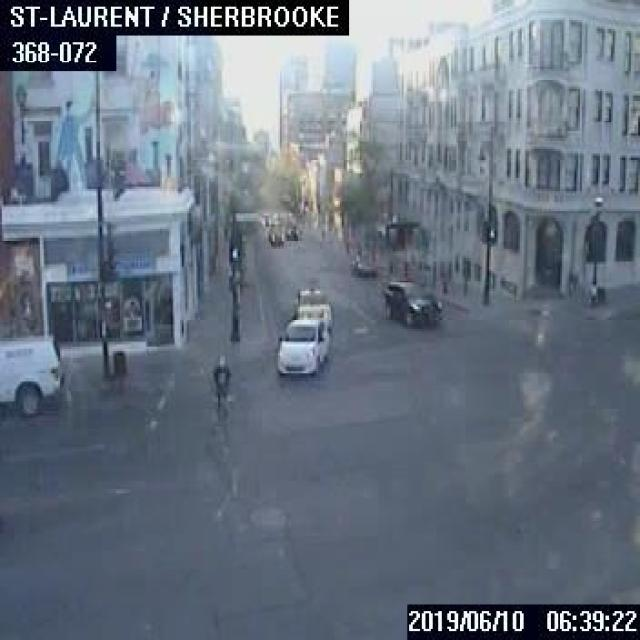pedestrian: (211, 352, 229, 418)
vehicle: (0, 331, 60, 411), (276, 316, 331, 373), (383, 278, 440, 326), (291, 286, 331, 324), (349, 253, 378, 276), (268, 227, 282, 244), (284, 222, 297, 238), (260, 212, 270, 224)
